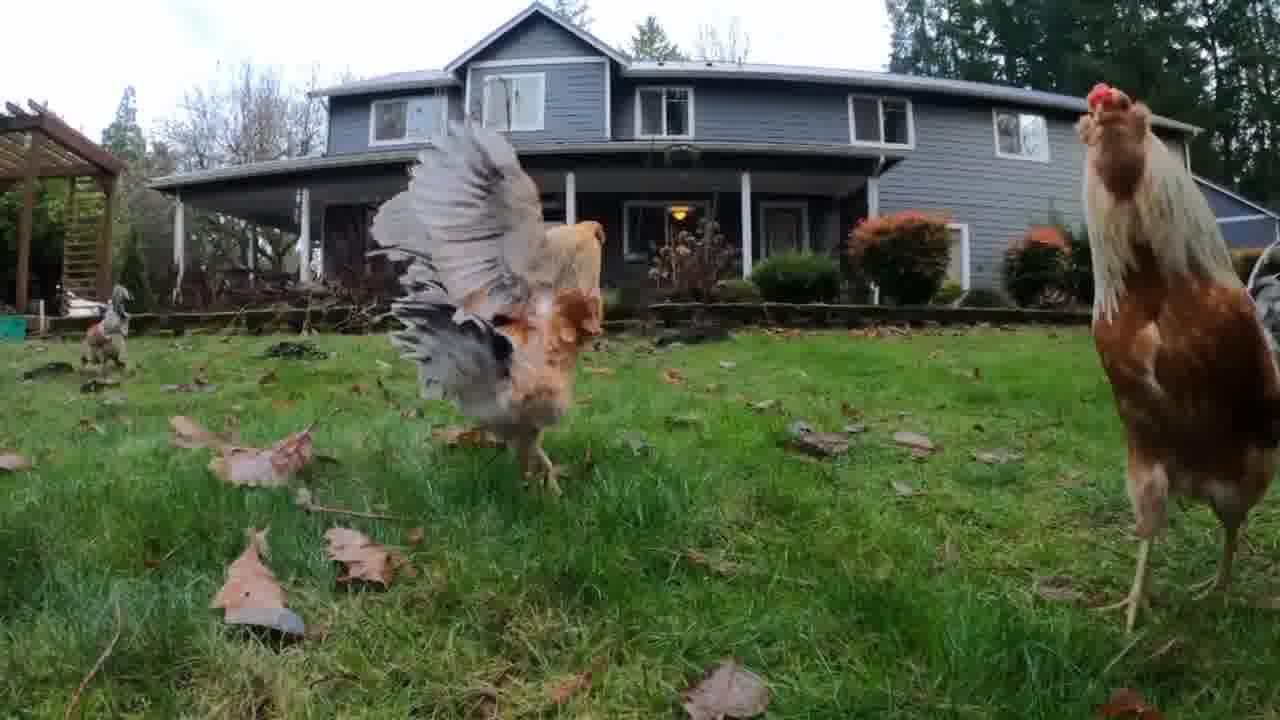Normal: (1048, 76, 1280, 614), (380, 110, 622, 490)
